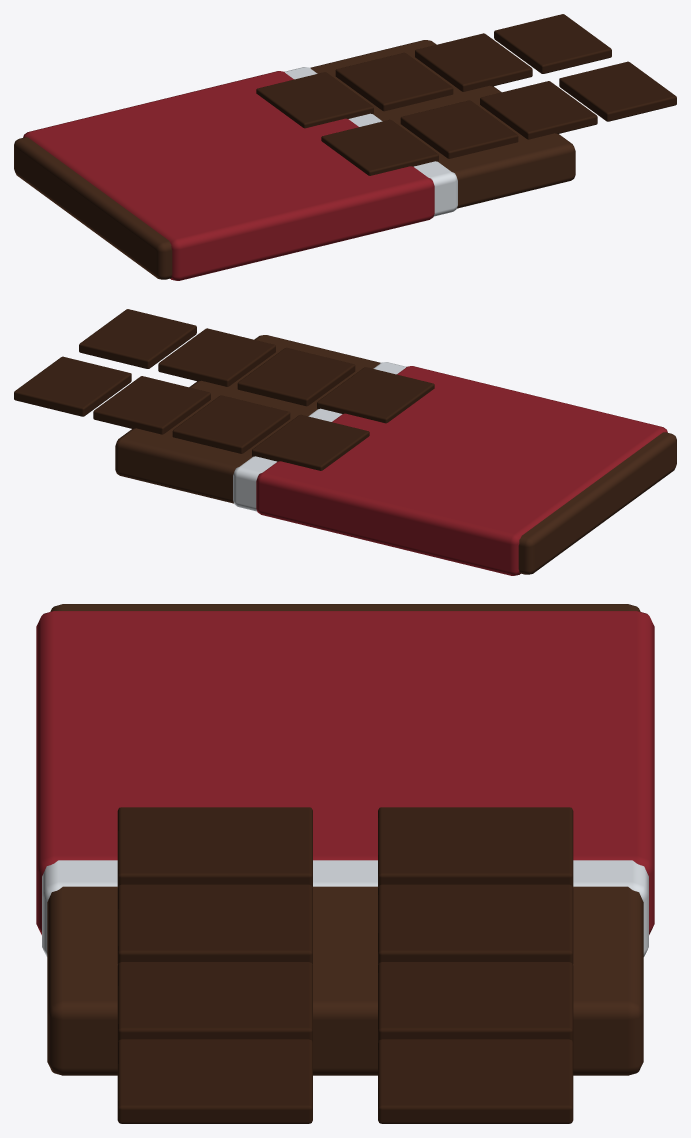
File: wp-tablette-de-chocolat.glb
3 views of the same model, one above another, from view 1: azimuth 30°, elevation 25°; view 2: azimuth 150°, elevation 25°; view 3: azimuth 270°, elevation 25° (orthographic). The views are drawn at different scales.
Visible parts, largest first — view 1: wp-tablette-de-chocolat; view 2: wp-tablette-de-chocolat; view 3: wp-tablette-de-chocolat.
Part boxes in pixels (bbox=[...]): wp-tablette-de-chocolat: bbox=[14, 14, 676, 280]; wp-tablette-de-chocolat: bbox=[14, 309, 676, 575]; wp-tablette-de-chocolat: bbox=[36, 604, 654, 1123].
Bounding box in the file's own units: 0.18 × 0.015 × 0.09.
